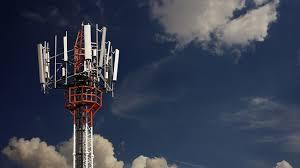antenna: (95, 26, 110, 67), (36, 42, 49, 82), (82, 22, 92, 59), (113, 48, 123, 82), (61, 34, 71, 62)
